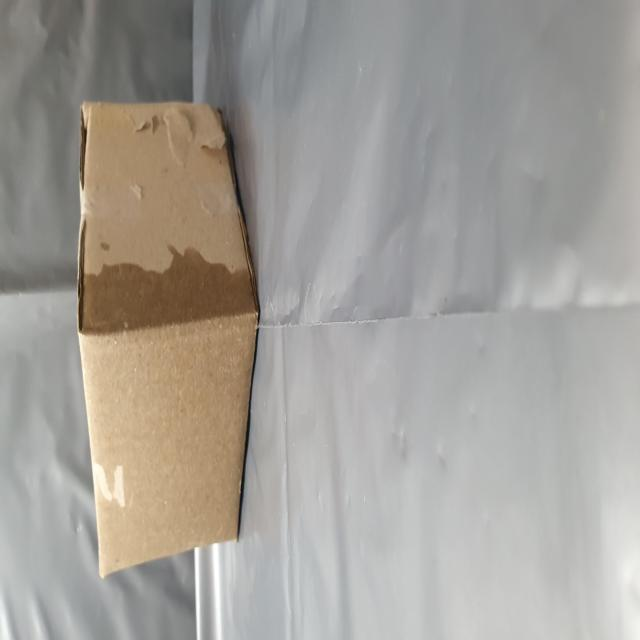wet: (34, 131, 228, 464)
